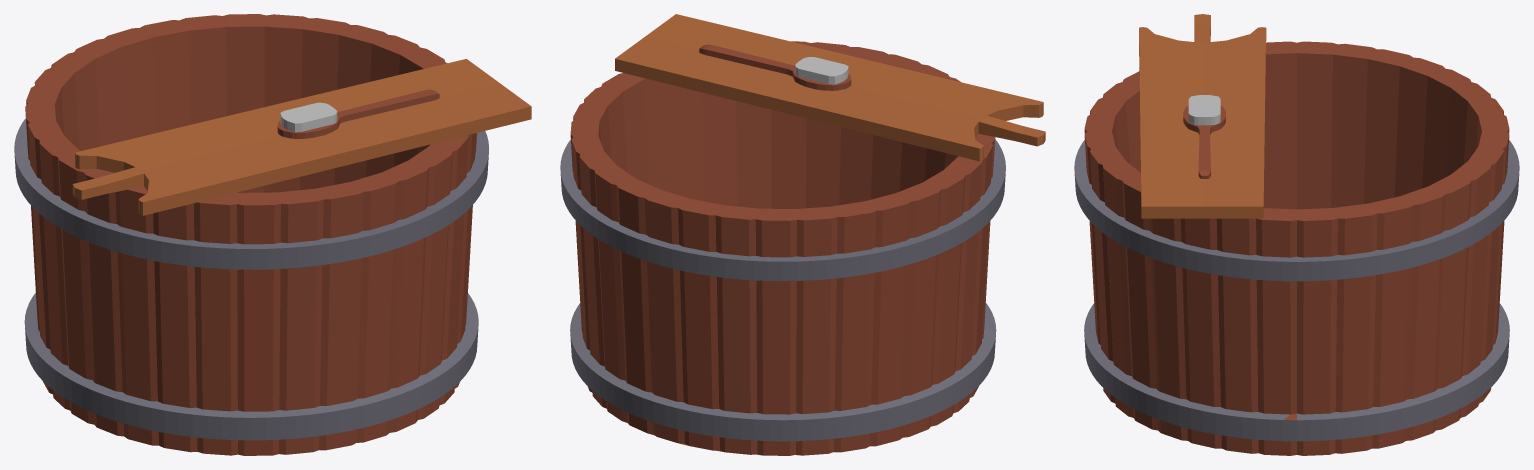
The model's file is Bathtub.fbx.
3 views of the same model, side by side, from view 1: azimuth 30°, elevation 25°; view 2: azimuth 150°, elevation 25°; view 3: azimuth 270°, elevation 25° (orthographic). The views are drawn at different scales.
Parts seen in each view (by area): view 1: Bathtub, Board, Brush; view 2: Bathtub, Board, Brush; view 3: Bathtub, Board, Brush.
Boxes of the visible parts, left/top/right/bottom form: Bathtub: left=14, top=14, right=489, bottom=455; Board: left=72, top=59, right=531, bottom=215; Brush: left=277, top=89, right=439, bottom=138; Bathtub: left=560, top=41, right=1005, bottom=455; Board: left=615, top=14, right=1045, bottom=161; Brush: left=699, top=44, right=851, bottom=90; Bathtub: left=1074, top=41, right=1519, bottom=455; Board: left=1139, top=14, right=1266, bottom=218; Brush: left=1183, top=95, right=1225, bottom=178.
Size of the model in its own units: 141 by 89.58 by 134.
